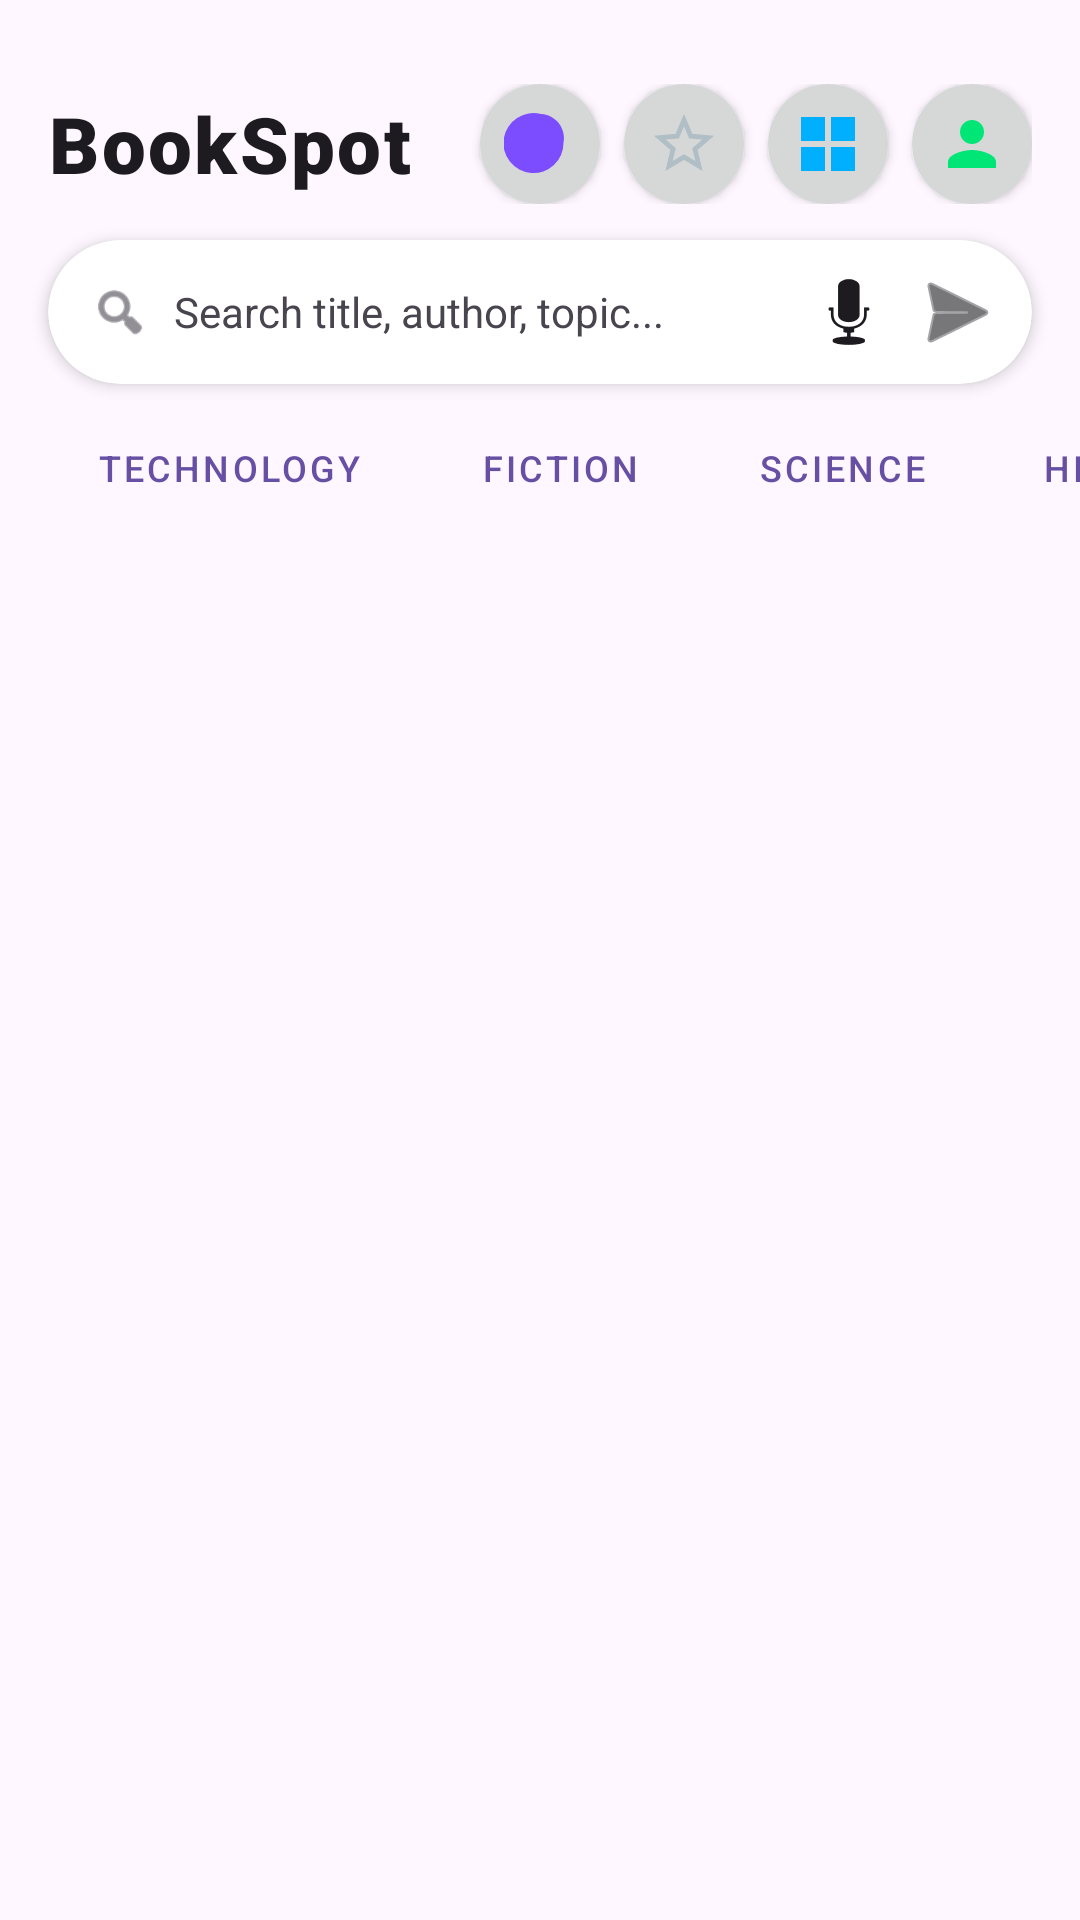

Icon bounding boxes for this 1080 × 1920 phone screenshot, format (x1, y1, x2, y2):
Favorites: (624, 84, 744, 204)
Submit Search: (927, 282, 989, 343)
Switch View Mode: (768, 84, 888, 204)
Voice Search: (828, 279, 870, 345)
